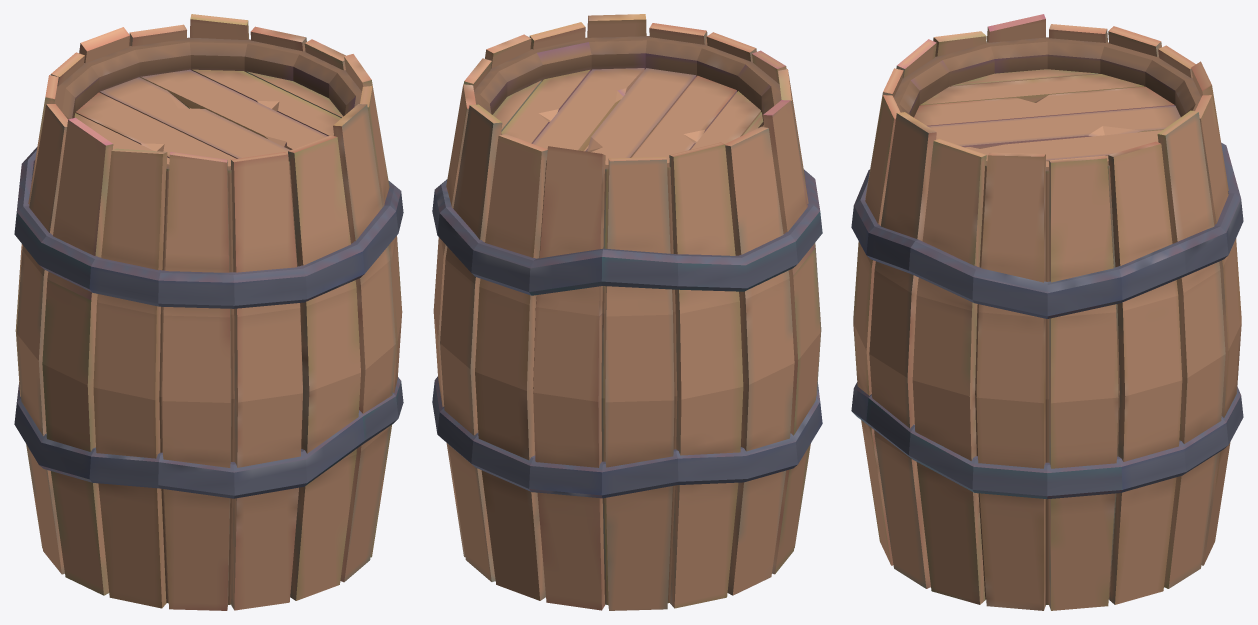
The model's file is BarrilDanificado.fbx.
3 renders of one model, left to right at view 1: azimuth 30°, elevation 25°; view 2: azimuth 150°, elevation 25°; view 3: azimuth 270°, elevation 25°, orthographic.
Visible parts, largest first — view 1: Barril 2; view 2: Barril 2; view 3: Barril 2.
Part boxes in pixels (x1=…): Barril 2: x1=14, y1=14, x2=403, y2=610; Barril 2: x1=432, y1=14, x2=822, y2=610; Barril 2: x1=851, y1=14, x2=1243, y2=610.
Size of the model in its own units: 88.08 by 113 by 88.08.
1 material, 1 textured.
